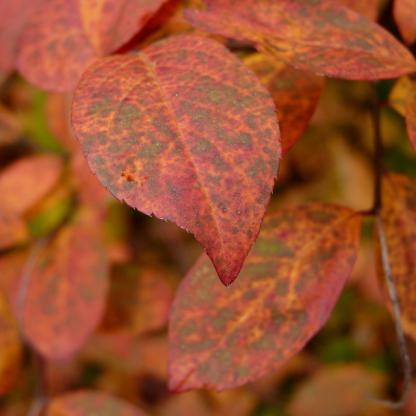Blueberry leaf: (70, 30, 272, 302), (164, 202, 370, 397), (188, 2, 415, 85)
